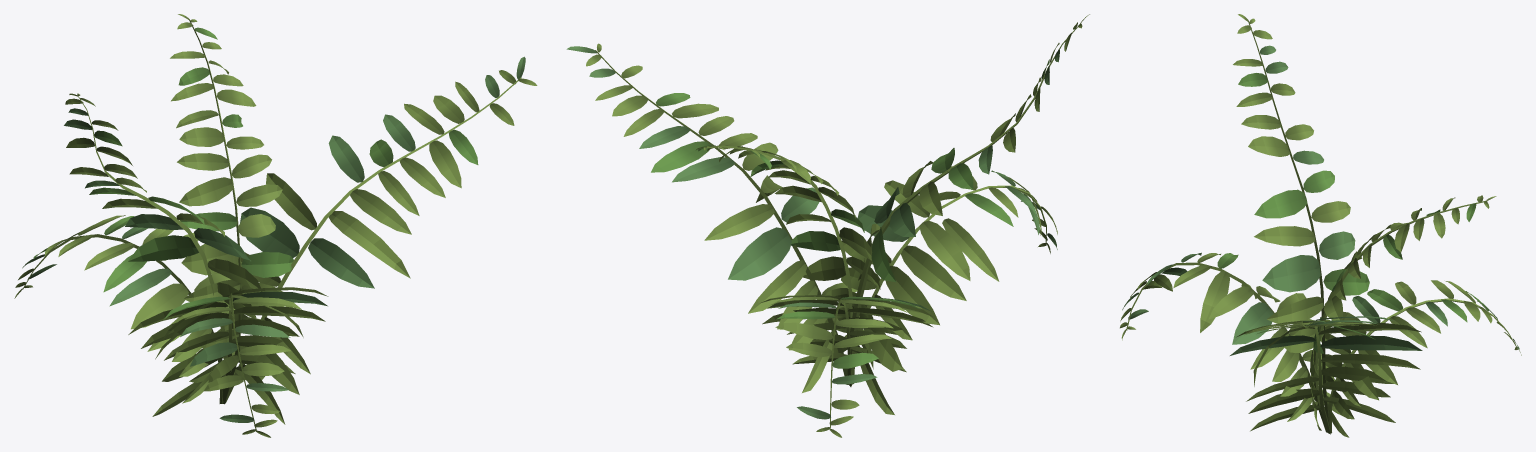
File: Jungle_Fern_B.fbx
3 views of the same model, side by side, from view 1: azimuth 30°, elevation 25°; view 2: azimuth 150°, elevation 25°; view 3: azimuth 270°, elevation 25° (orthographic). The views are drawn at different scales.
Parts seen in each view (by area): view 1: Jungle_Fern_B; view 2: Jungle_Fern_B; view 3: Jungle_Fern_B.
Part boxes in pixels (<box>): Jungle_Fern_B: <box>14,14,537,437</box>; Jungle_Fern_B: <box>566,14,1089,437</box>; Jungle_Fern_B: <box>1120,14,1521,437</box>.
Size of the model in its own units: 3.16 by 2.46 by 2.6.
1 material, 1 textured.
